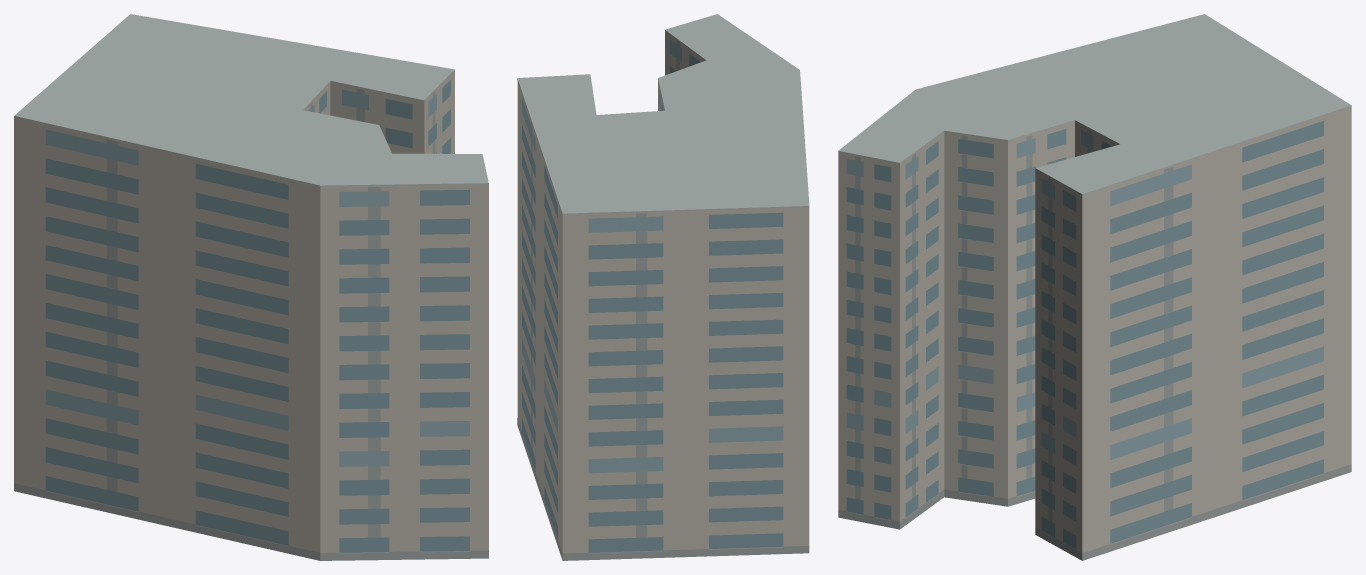
Rendered from residential-22ef0f44-2bd7-4c7c-9030-223bdfb1ad6d.glb.
3 views of the same model, side by side, from view 1: azimuth 30°, elevation 25°; view 2: azimuth 150°, elevation 25°; view 3: azimuth 270°, elevation 25° (orthographic). The views are drawn at different scales.
Parts seen in each view (by area): view 1: residential-22ef0f44-2bd7-4c7c-9030-223bdfb1ad6d.tmp; view 2: residential-22ef0f44-2bd7-4c7c-9030-223bdfb1ad6d.tmp; view 3: residential-22ef0f44-2bd7-4c7c-9030-223bdfb1ad6d.tmp.
Boxes of the visible parts, x1,y1,x2,y2 form: residential-22ef0f44-2bd7-4c7c-9030-223bdfb1ad6d.tmp: (14, 14, 488, 560); residential-22ef0f44-2bd7-4c7c-9030-223bdfb1ad6d.tmp: (517, 14, 809, 560); residential-22ef0f44-2bd7-4c7c-9030-223bdfb1ad6d.tmp: (838, 14, 1351, 560).
Size of the model in its own units: 42.18 by 40 by 50.78.
